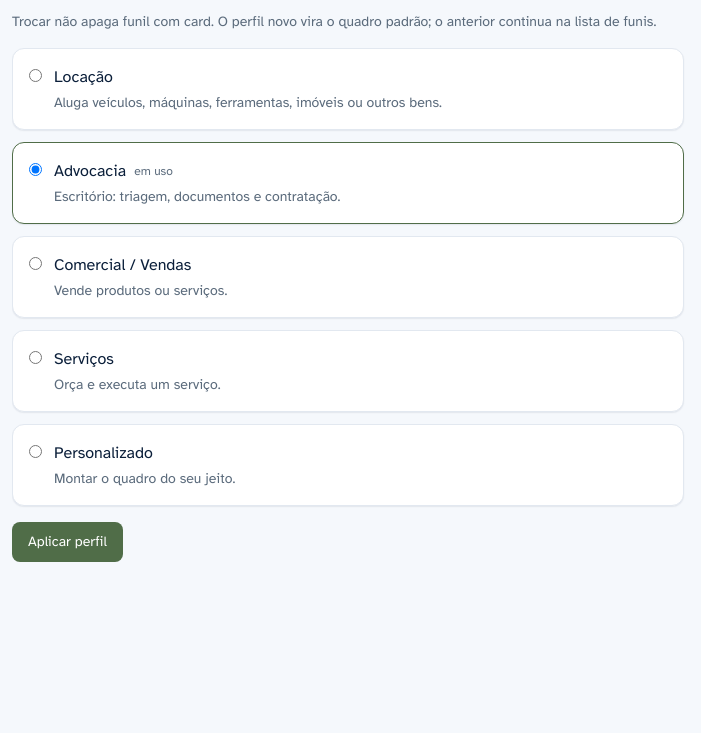
Test: troca de Ready Model › Advocacia → Comercial pede confirmação e não apaga Processos
Click the radio button labelled "Comercial / Vendas Vende produtos ou serviços.". click: (36,264)
box: [29, 257, 42, 270]
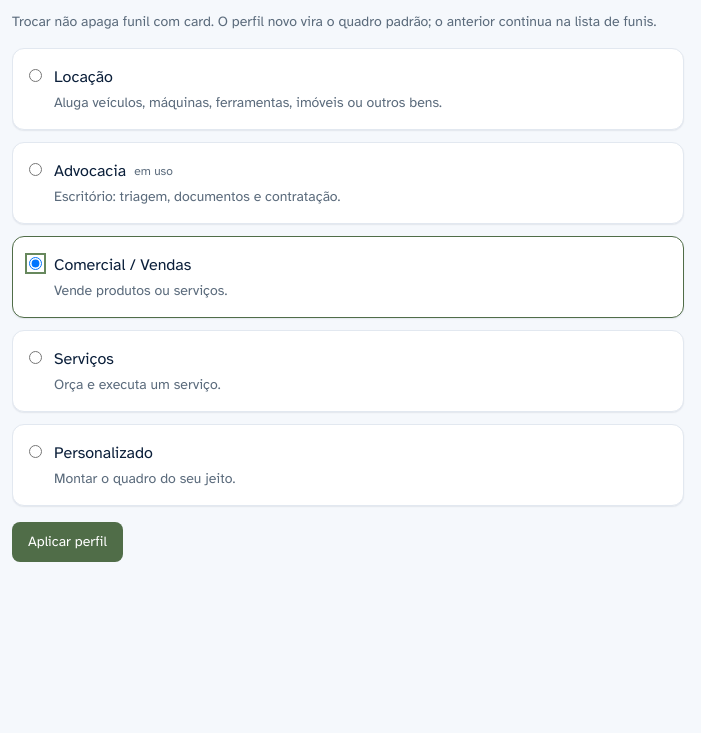
Click the button with test id "aplicar-perfil". click: (67,542)
box: [12, 522, 123, 562]
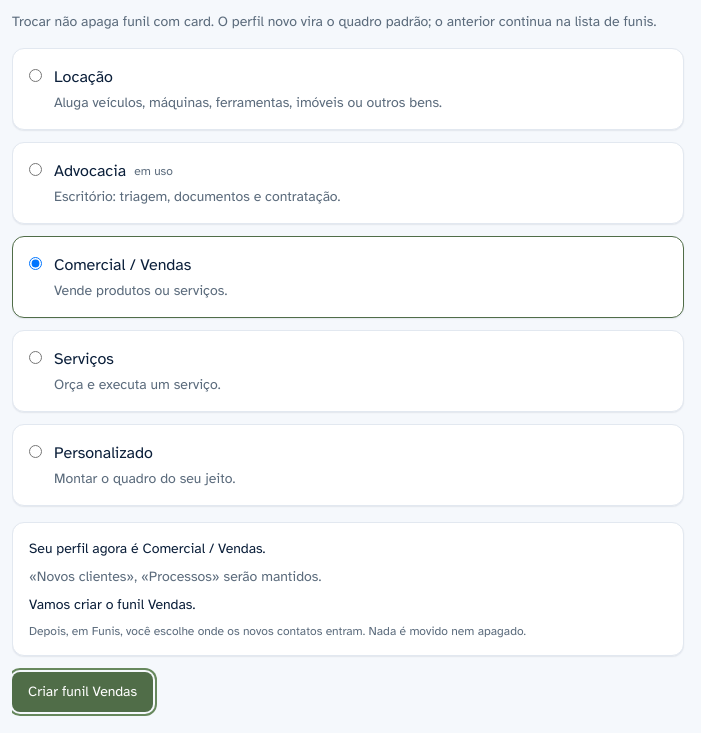
Now the element with test id "confirmar-troca-de-perfil" shows "Seu perfil agora é Comercial / Vendas", box [12, 522, 684, 656]
Now the element with test id "confirmar-troca-de-perfil" shows "Processos", box [29, 568, 220, 585]
Now the element with test id "confirmar-troca-de-perfil" shows "serão mantidos", box [224, 568, 318, 585]
